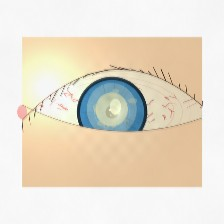corneal_ulcer: (84, 87, 139, 131)
